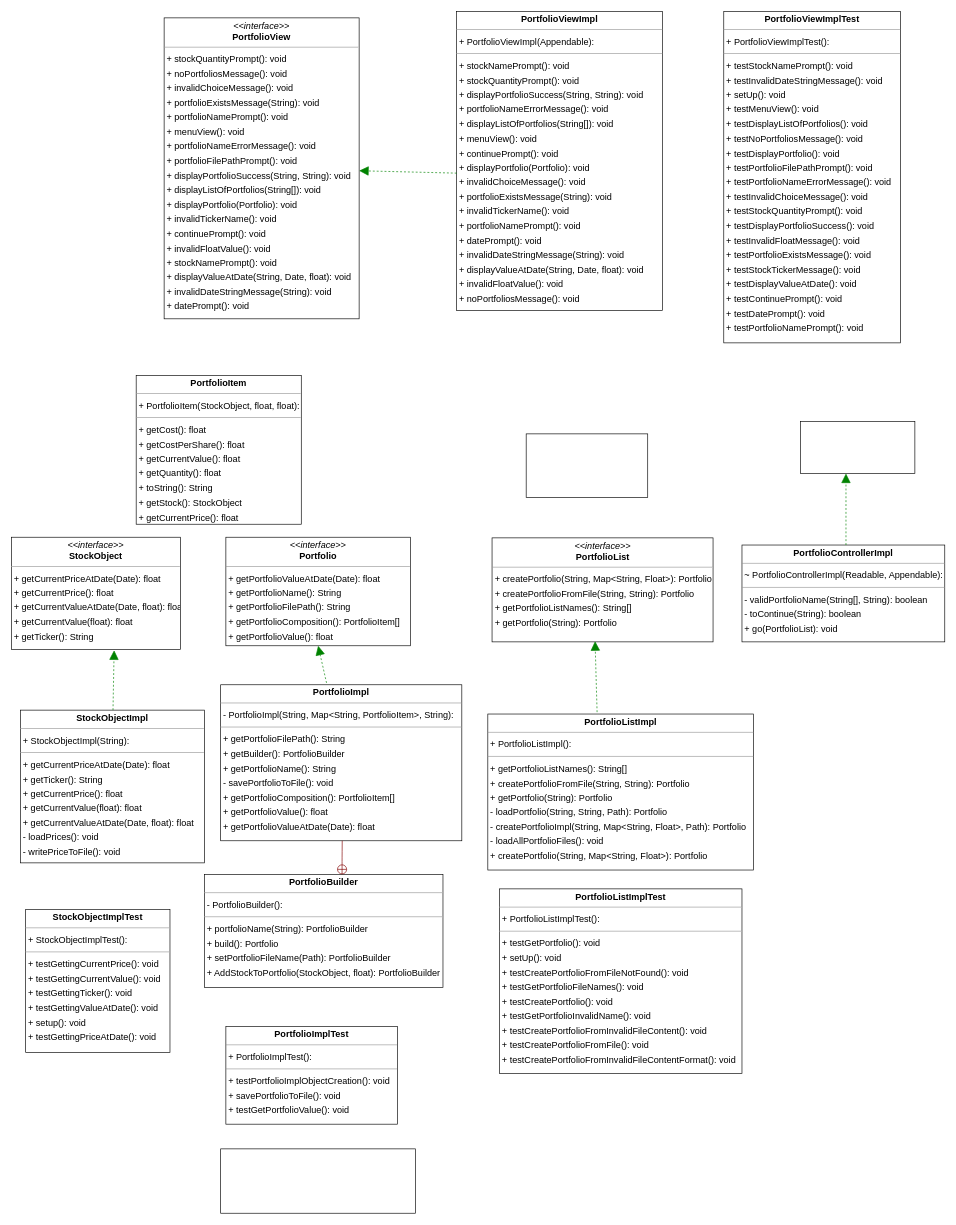
Some shapes in this 956 by 1225 pixel diagram are drawn without their labels. The shapes that lost their labels are listed below. From the top down, each one's centre as x and y in pixels, then its label:
the point at 587,465: PortfolioApplication + PortfolioApplication(): + main(String[]): void
the point at 857,447: <<interface>> PortfolioController + go(PortfolioList): void
the point at 318,1180: Utils + Utils(): + getNextRandomInteger(Random, int, int): int
